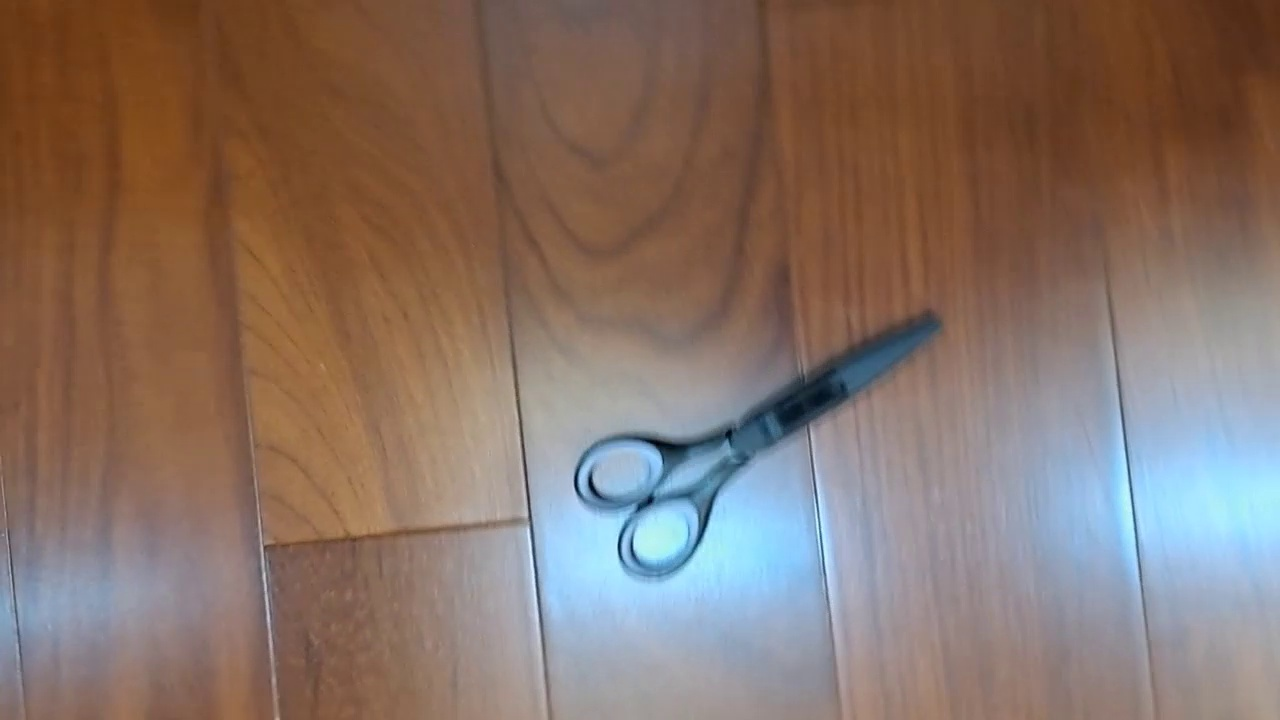scissors: (573, 307, 947, 583)
